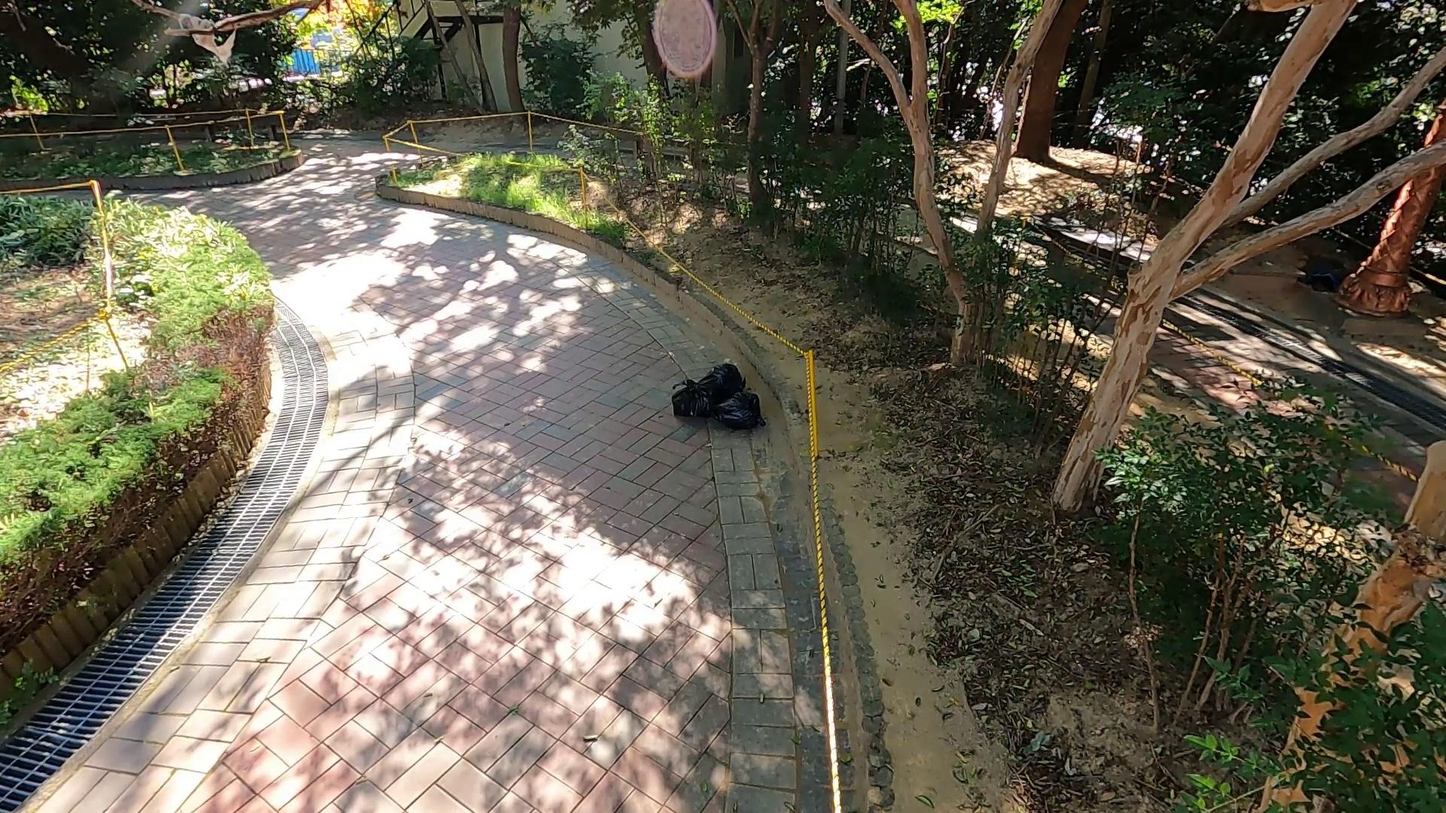trash: (707, 379, 766, 433), (665, 372, 725, 425), (698, 362, 751, 407)
